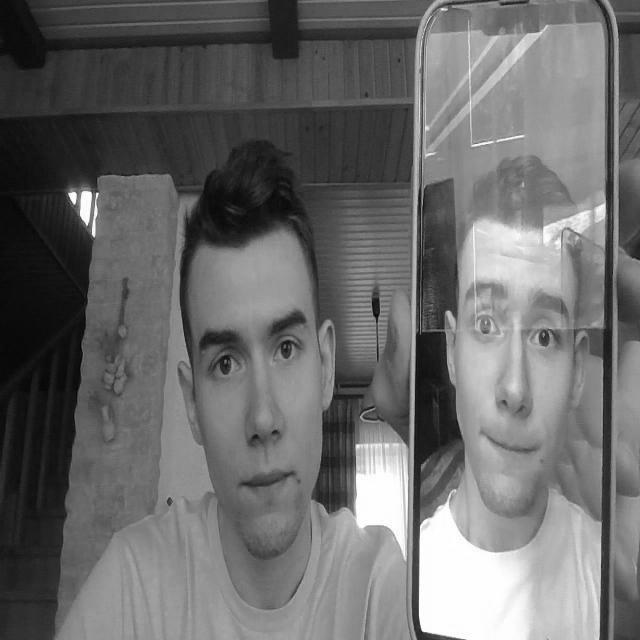fake: (412, 0, 618, 640)
real: (182, 233, 324, 553)
